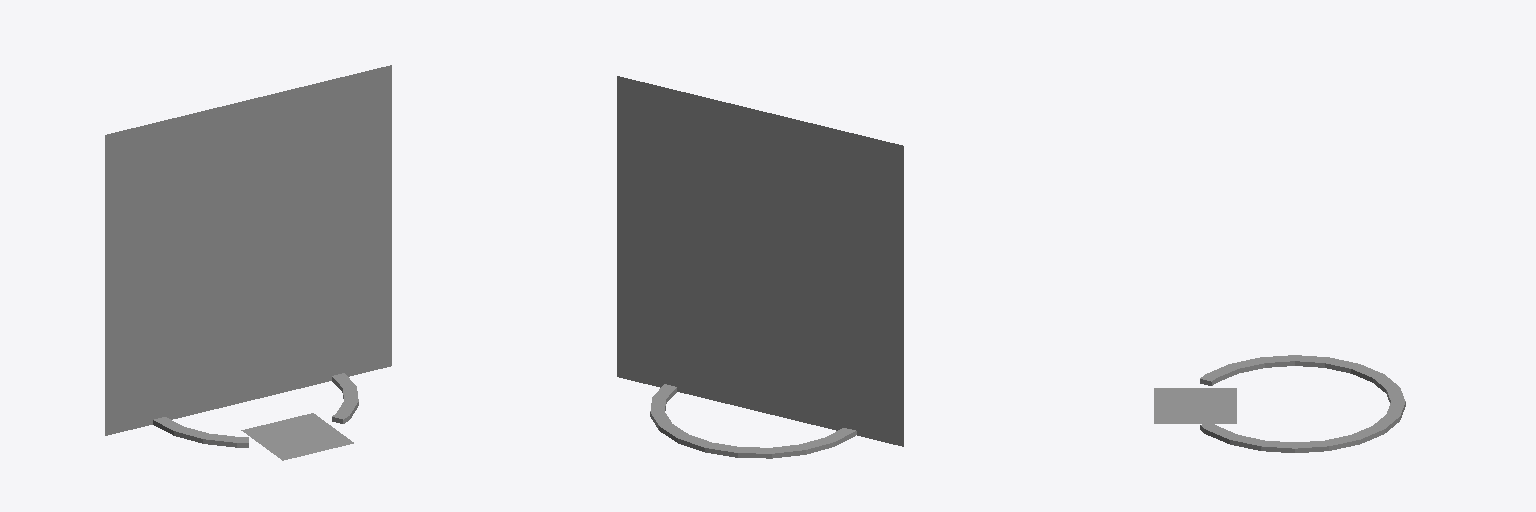
The picture shows the model from 3 angles: view 1: azimuth 30°, elevation 25°; view 2: azimuth 150°, elevation 25°; view 3: azimuth 270°, elevation 25°; orthographic projection.
Parts seen in each view (by area): view 1: c_face_Plane.003, c_back_Plane.006, icon_Plane.005, tt_base_Cylinder.001; view 2: c_back_Plane.006, c_face_Plane.003, tt_base_Cylinder.001; view 3: tt_base_Cylinder.001, icon_Plane.005.
Boxes of the visible parts, box(x1,y1,x2,y2) form: c_face_Plane.003: box(173, 65, 391, 415); c_back_Plane.006: box(105, 100, 286, 435); icon_Plane.005: box(241, 413, 353, 460); tt_base_Cylinder.001: box(153, 373, 358, 447); c_back_Plane.006: box(617, 76, 824, 417); c_face_Plane.003: box(639, 107, 903, 446); tt_base_Cylinder.001: box(650, 384, 856, 458); tt_base_Cylinder.001: box(1200, 355, 1405, 452); icon_Plane.005: box(1154, 388, 1236, 423).
Bounding box in the file's own units: 6 × 6 × 4.54.